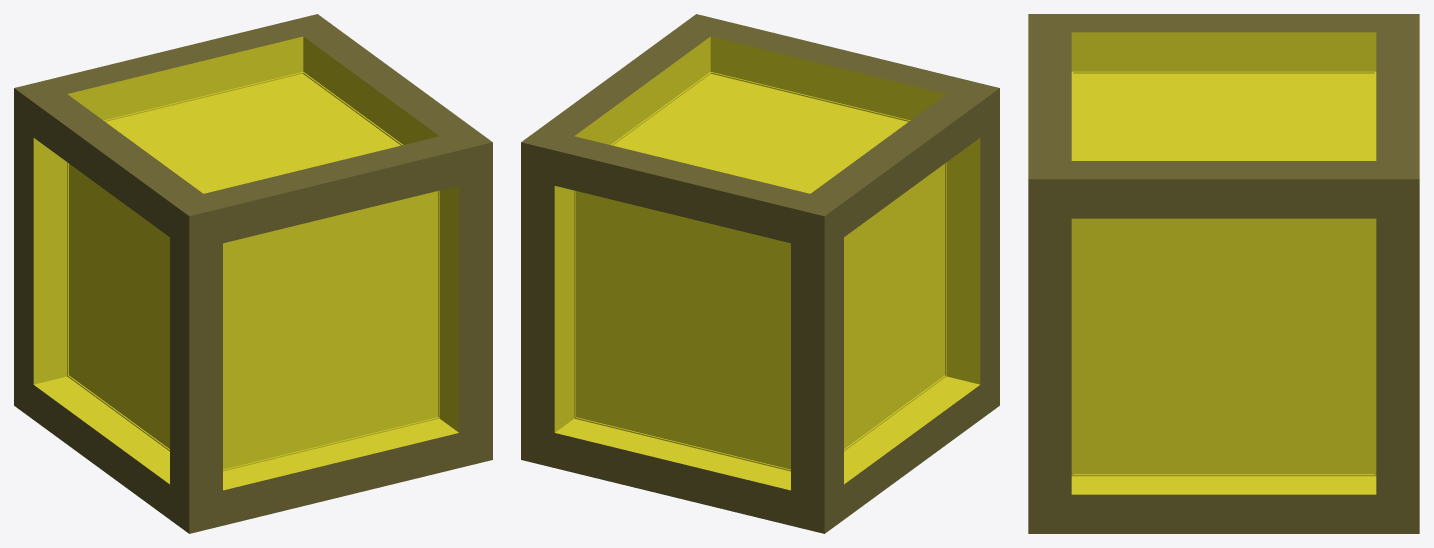
Rendered from crate.fbx.
3 renders of one model, left to right at view 1: azimuth 30°, elevation 25°; view 2: azimuth 150°, elevation 25°; view 3: azimuth 270°, elevation 25°, orthographic. The views are drawn at different scales.
Visible parts, largest first — view 1: Cube; view 2: Cube; view 3: Cube.
Part boxes in pixels (<box>): Cube: <box>14,14,492,533</box>; Cube: <box>521,14,999,533</box>; Cube: <box>1028,14,1419,533</box>.
Bounding box in the file's own units: 200 × 200 × 200.
